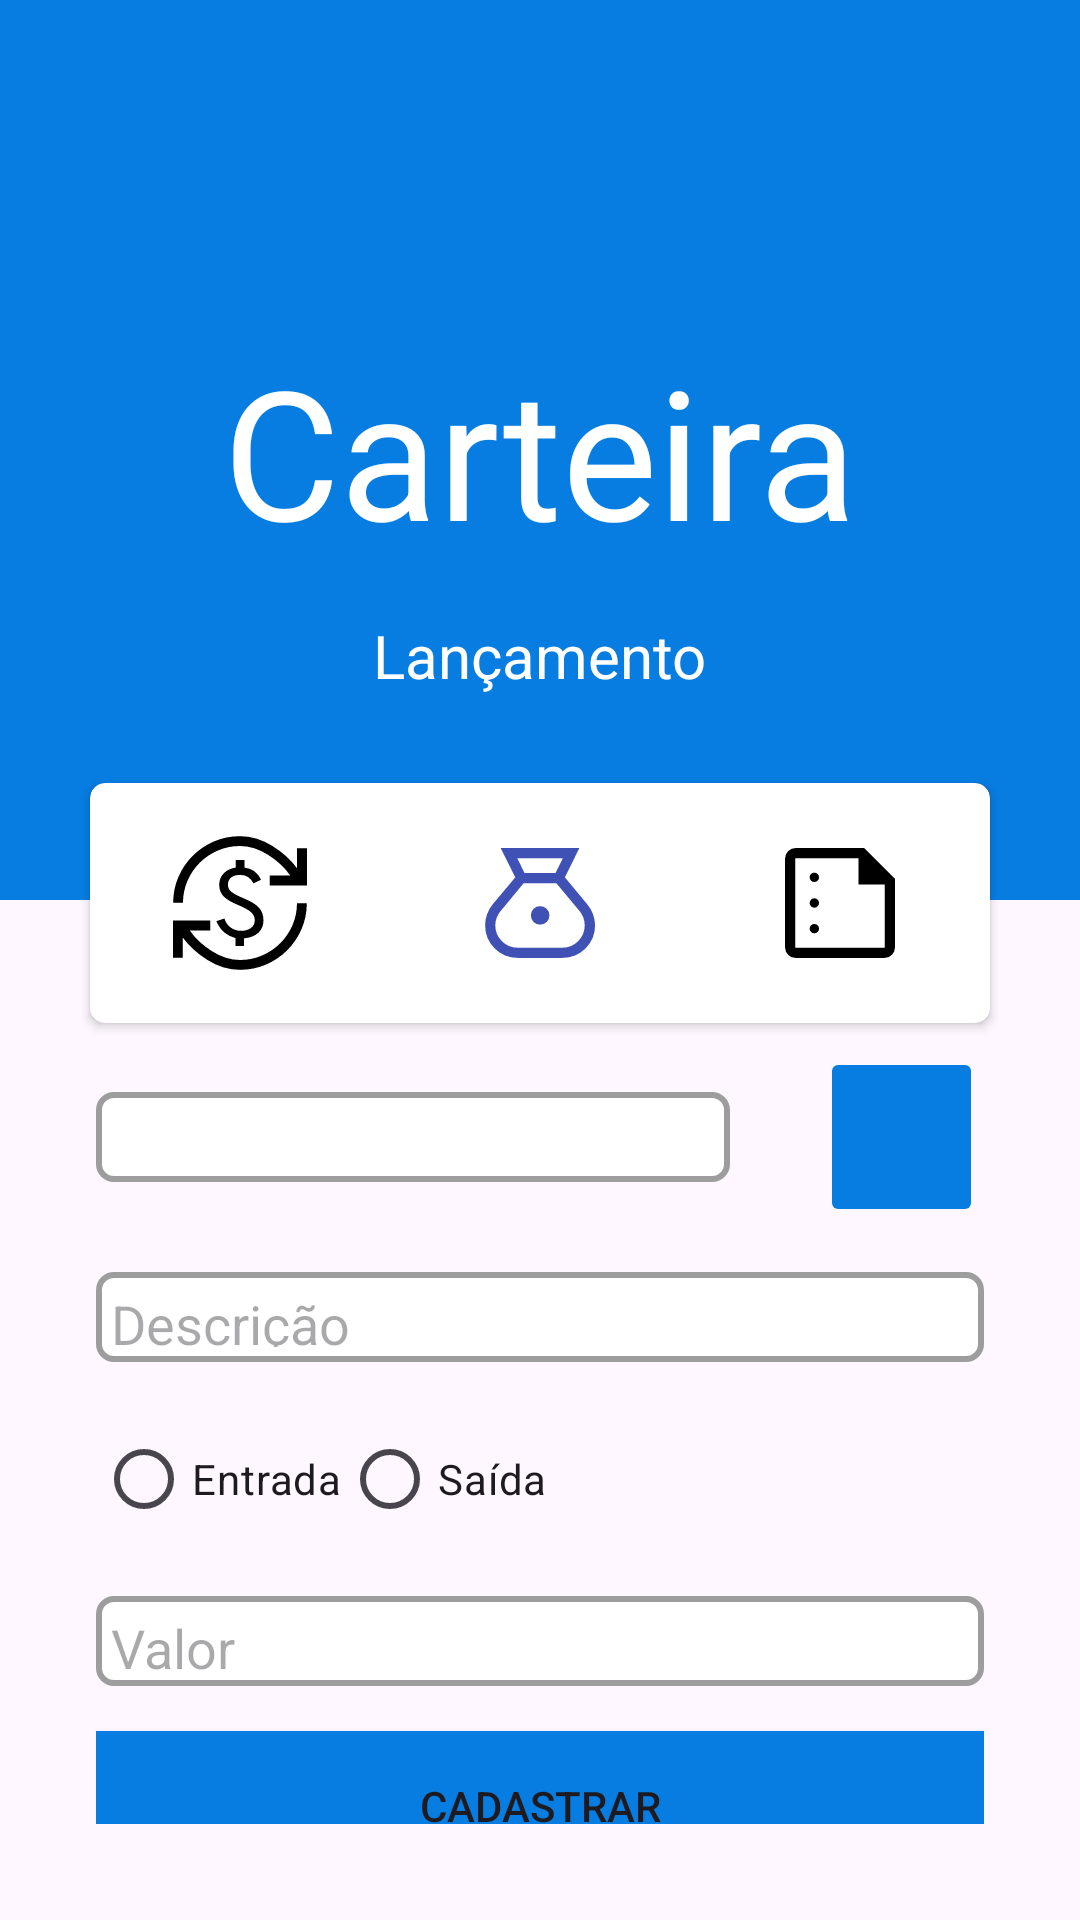

Named icons in this screenshot (1080×1920) and their centers, (x,y):
currency: (240,903)
money bag activated: (540,903)
summarize: (840,903)
